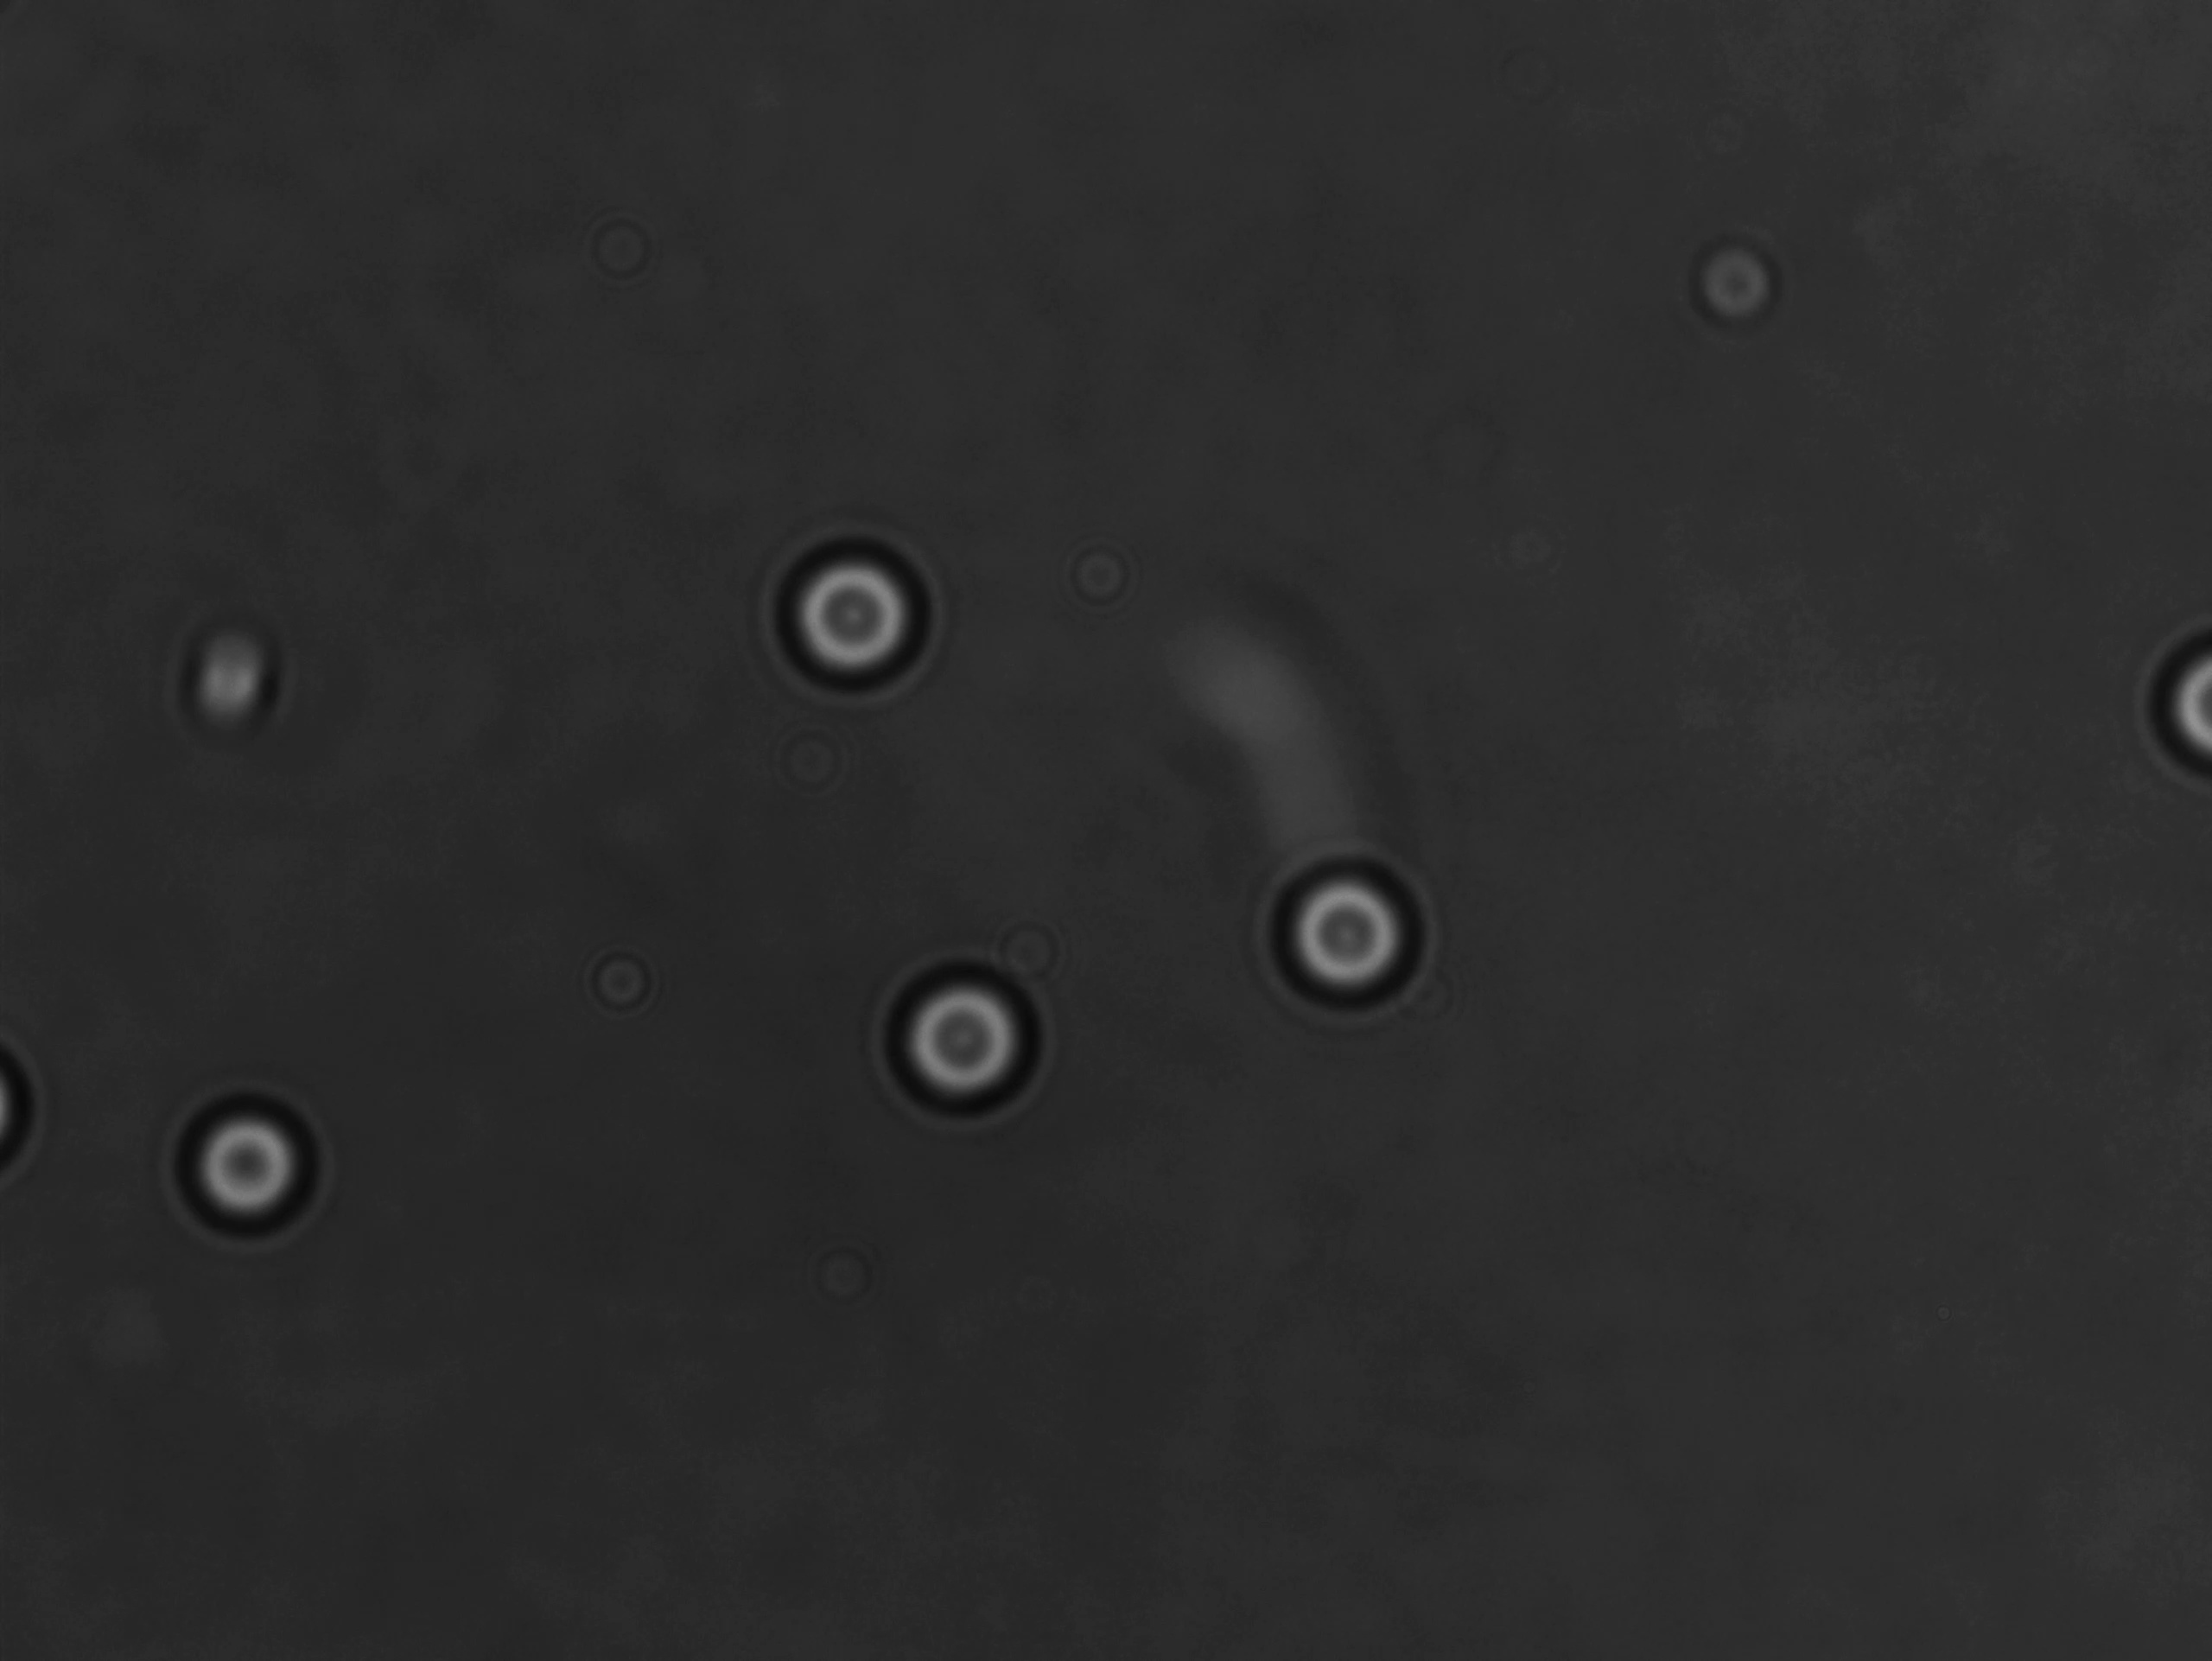depth:40: (881, 951, 1059, 1139), (766, 525, 946, 705), (1261, 850, 1425, 1014)
